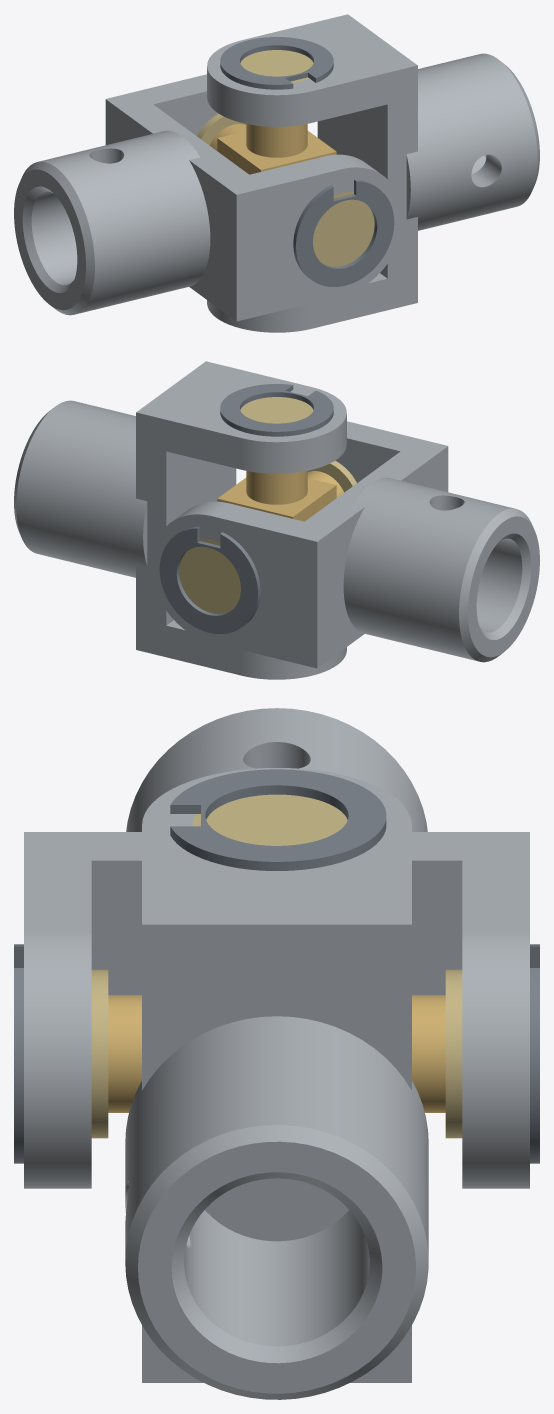
Rendered from step_18.glb.
3 views of the same model, one above another, from view 1: azimuth 30°, elevation 25°; view 2: azimuth 150°, elevation 25°; view 3: azimuth 270°, elevation 25° (orthographic). The views are drawn at different scales.
Visible parts, largest first — view 1: part__input yoke, part__output yoke, part__circlip 2, part__cross (spider), part__circlip 3, part__cup 2, part__cup 3, part__cup 1; view 2: part__input yoke, part__output yoke, part__circlip 1, part__cross (spider), part__circlip 3, part__cup 1, part__cup 3, part__cup 2; view 3: part__output yoke, part__input yoke, part__circlip 3, part__cross (spider), part__cup 3, part__cup 1, part__cup 2, part__circlip 1, part__circlip 2.
Boxes of the visible parts, x1,y1,x2,y2 form: part__input yoke: (14, 74, 402, 321); part__output yoke: (207, 14, 539, 332); part__circlip 2: (293, 179, 394, 286); part__cross (spider): (210, 124, 336, 174); part__circlip 3: (220, 37, 333, 89); part__cup 2: (313, 191, 374, 266); part__cup 3: (240, 50, 313, 82); part__cup 1: (197, 113, 246, 145); part__input yoke: (151, 421, 539, 668); part__output yoke: (14, 361, 346, 679); part__circlip 1: (159, 526, 260, 633); part__cross (spider): (217, 471, 343, 521); part__circlip 3: (220, 384, 333, 436); part__cup 1: (179, 538, 240, 613); part__cup 3: (240, 397, 313, 423); part__cup 2: (307, 460, 356, 492); part__output yoke: (125, 768, 428, 1399); part__input yoke: (24, 708, 529, 1188); part__circlip 3: (170, 769, 386, 870); part__cross (spider): (108, 995, 445, 1112); part__cup 3: (192, 794, 347, 845); part__cup 1: (445, 969, 462, 1138); part__cup 2: (91, 969, 108, 1138); part__circlip 1: (530, 944, 539, 1163); part__circlip 2: (14, 944, 23, 1163).
Bounding box in the file's own units: 120 × 62.4 × 62.4.
